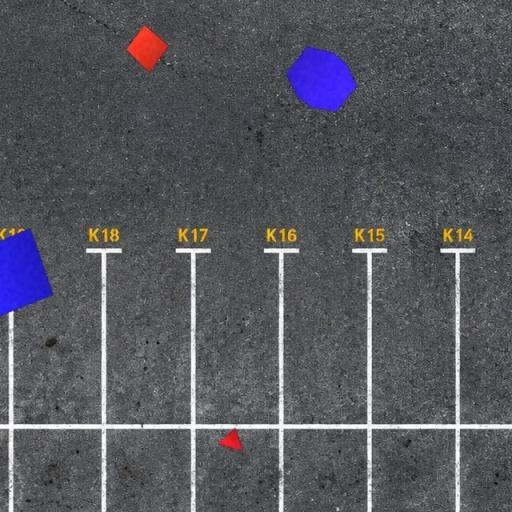BLUE_SQUARE: (0, 227, 54, 319)
RED_SQUARE: (126, 24, 170, 74)
